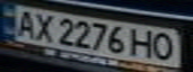2: (72, 18, 93, 51), (54, 16, 75, 47)
6: (106, 24, 130, 55)
7: (90, 20, 109, 52)
A: (12, 7, 39, 38)
H: (127, 27, 160, 58)
O: (148, 30, 181, 61)
X: (30, 11, 57, 43)
